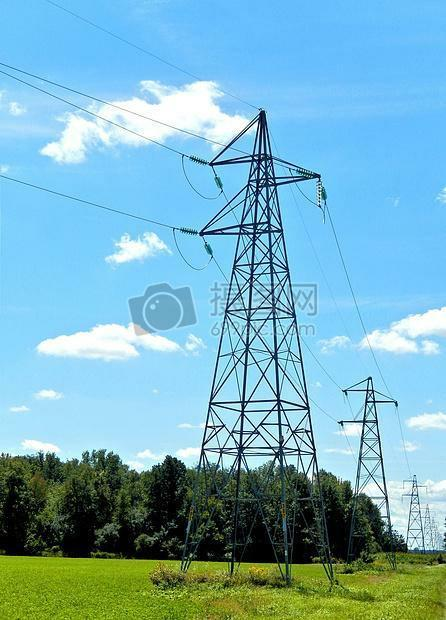power_tower: (184, 96, 325, 577), (335, 373, 409, 571), (398, 463, 435, 565)
